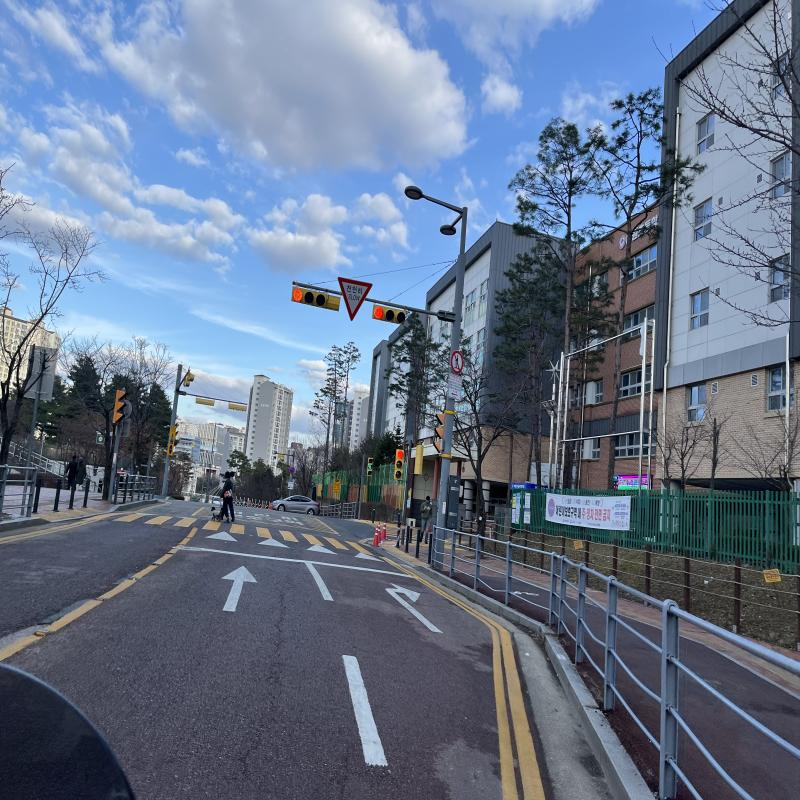red: (292, 287, 304, 304), (372, 305, 384, 320), (396, 449, 404, 460)
